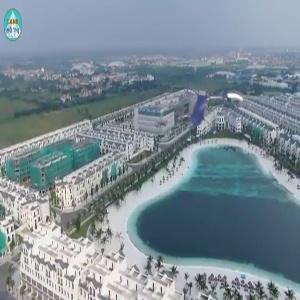drone: (166, 74, 249, 157)
